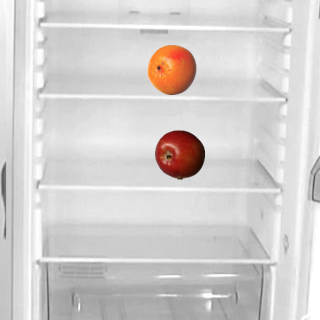Apple Braeburn: (154, 129, 204, 179)
Grapefruit Pink: (146, 44, 196, 94)
